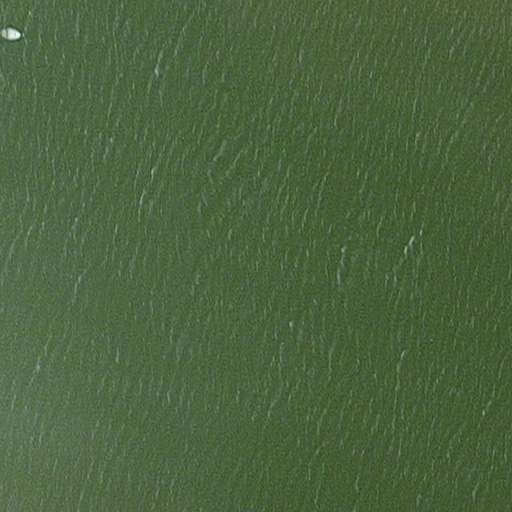ship: (1, 25, 22, 45)
